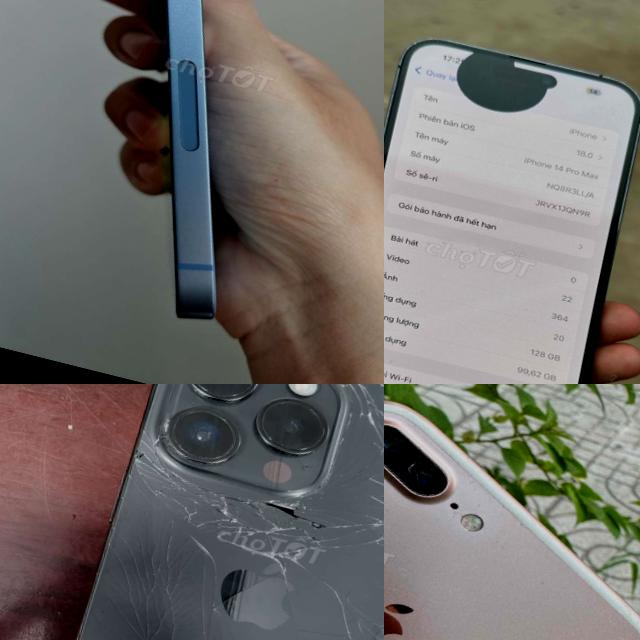physical_damage: (219, 529, 375, 640), (111, 437, 248, 532), (89, 549, 218, 629), (238, 476, 358, 560), (106, 506, 231, 575), (55, 598, 165, 640), (347, 467, 384, 582), (143, 610, 266, 640), (333, 408, 384, 480), (301, 384, 384, 426), (354, 572, 384, 640)
scratch: (384, 412, 544, 546)
screen_defect: (442, 31, 566, 132)
